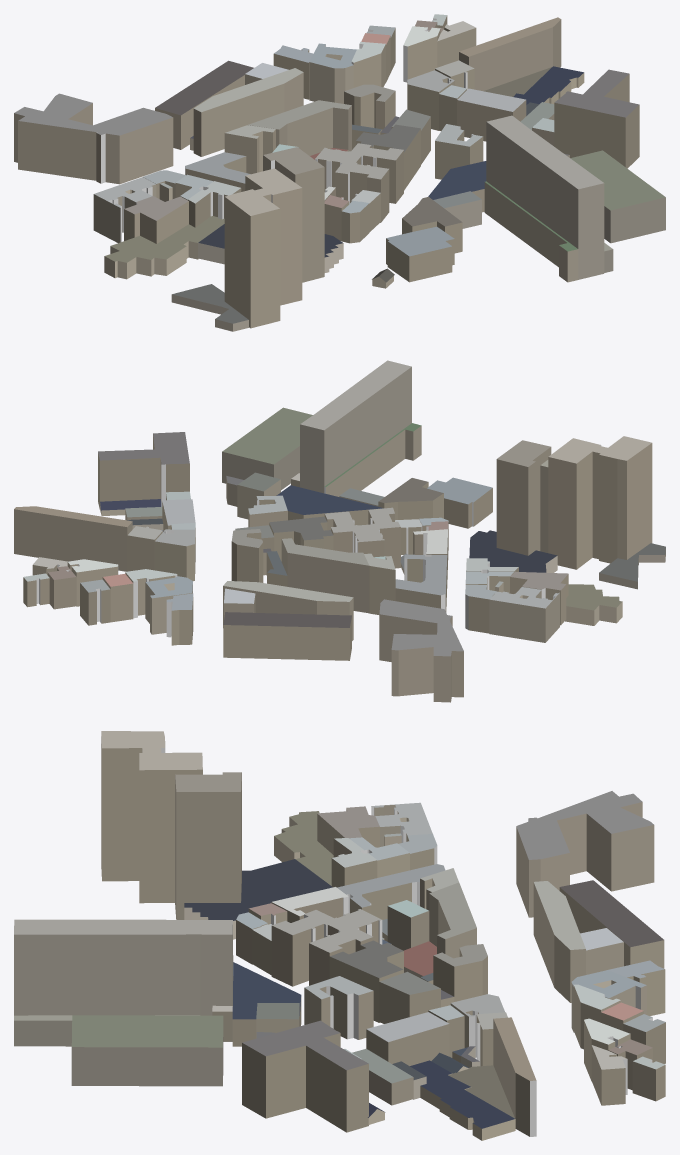
3 views of the same model, one above another, from view 1: azimuth 30°, elevation 25°; view 2: azimuth 150°, elevation 25°; view 3: azimuth 270°, elevation 25° (orthographic). The views are drawn at different scales.
Parts seen in each view (by area): view 1: tuile; view 2: tuile; view 3: tuile.
Part boxes in pixels (x1,y1,x2,y2): tuile: (14, 14, 665, 331); tuile: (14, 360, 665, 702); tuile: (14, 731, 665, 1140).
Size of the model in its own units: 303 by 59.57 by 263.
